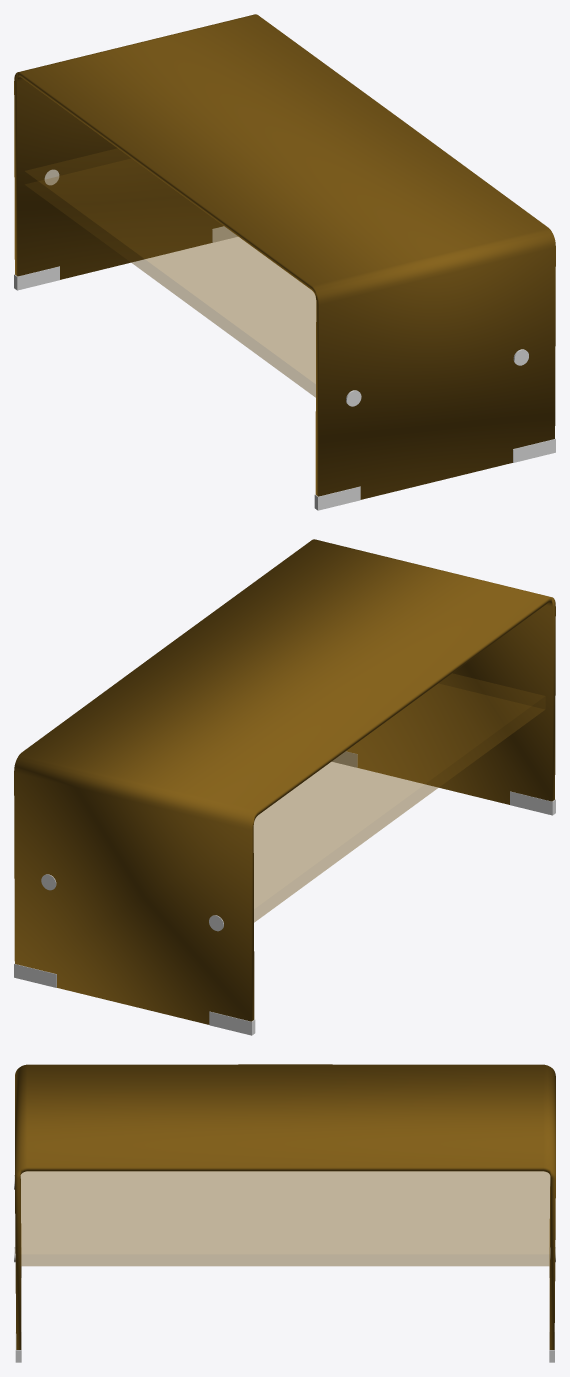
Rendered from ND-0891__Olivier2_59.glb.
3 views of the same model, one above another, from view 1: azimuth 30°, elevation 25°; view 2: azimuth 150°, elevation 25°; view 3: azimuth 270°, elevation 25° (orthographic). The views are drawn at different scales.
Visible parts, largest first — view 1: Cube.002, Cube, Cube.005, Cube.003, Cube.004; view 2: Cube.002, Cube, Cube.003, Cube.005, Cube.001; view 3: Cube.002, Cube.
Part boxes in pixels (<box>): Cube.002: <box>14,14,555,499</box>; Cube: <box>24,148,315,397</box>; Cube.005: <box>314,486,360,510</box>; Cube.003: <box>14,266,59,290</box>; Cube.004: <box>513,438,555,462</box>; Cube.002: <box>14,539,555,1024</box>; Cube: <box>254,673,545,922</box>; Cube.003: <box>209,1011,255,1035</box>; Cube.005: <box>510,791,555,815</box>; Cube.001: <box>14,963,56,987</box>; Cube.002: <box>15,1064,555,1349</box>; Cube: <box>21,1171,549,1265</box>.
Size of the model in its own units: 1.8 by 1.59 by 3.99.
